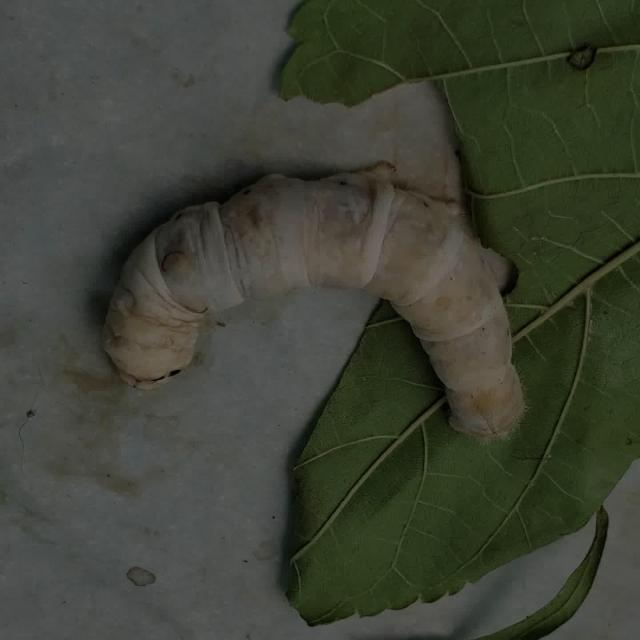Grasserie: (69, 120, 568, 490)
